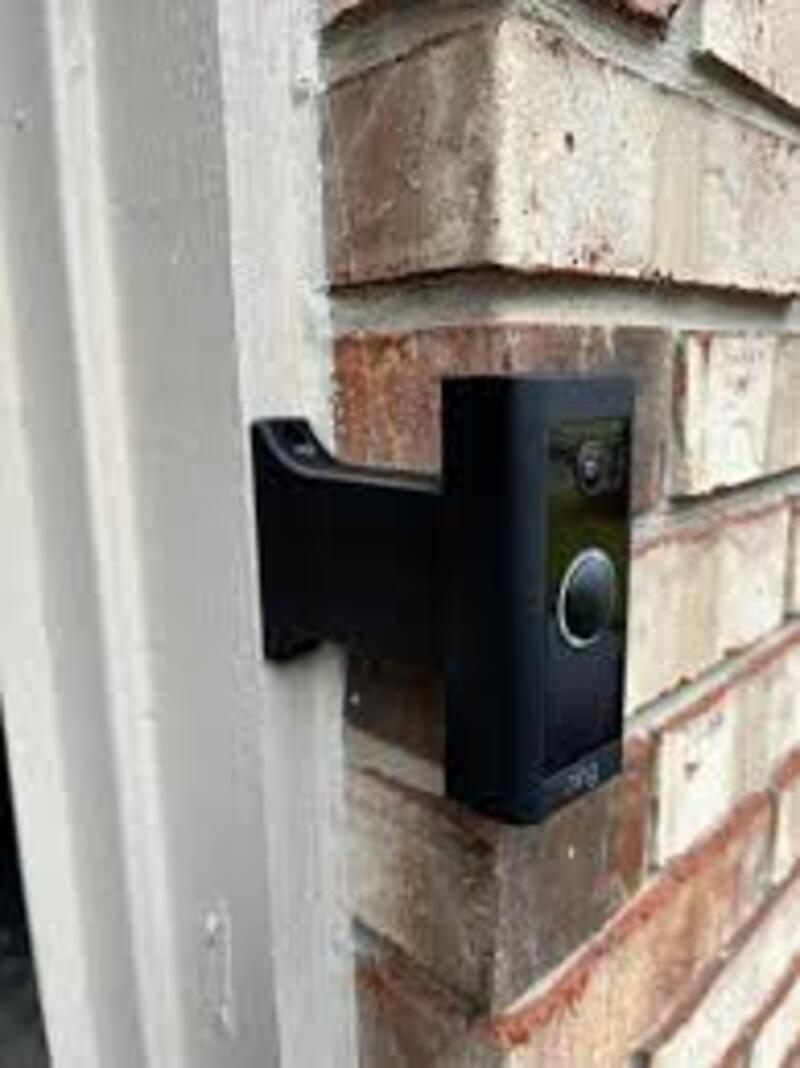doorbell: (432, 347, 639, 834)
